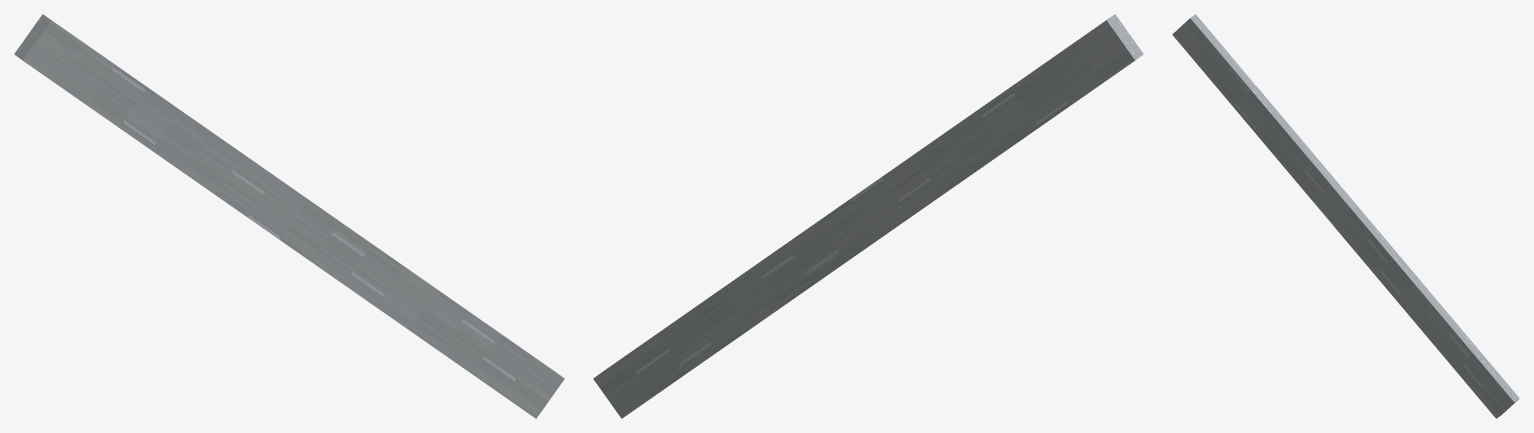
The model's file is galvanized_leaf_1_5_strut_a.obj.
The picture shows the model from 3 angles, left to right: view 1: azimuth 30°, elevation 25°; view 2: azimuth 150°, elevation 25°; view 3: azimuth 330°, elevation 25°; orthographic projection. The views are drawn at different scales.
Visible parts, largest first — view 1: galvanized_leaf_1_5_strut_a; view 2: galvanized_leaf_1_5_strut_a; view 3: galvanized_leaf_1_5_strut_a.
Boxes of the visible parts, x1,y1,x2,y2 form: galvanized_leaf_1_5_strut_a: (14,14,564,418); galvanized_leaf_1_5_strut_a: (593,14,1143,418); galvanized_leaf_1_5_strut_a: (1172,14,1519,418).
Size of the model in its own units: 0.7918 by 0.7215 by 0.0219.
